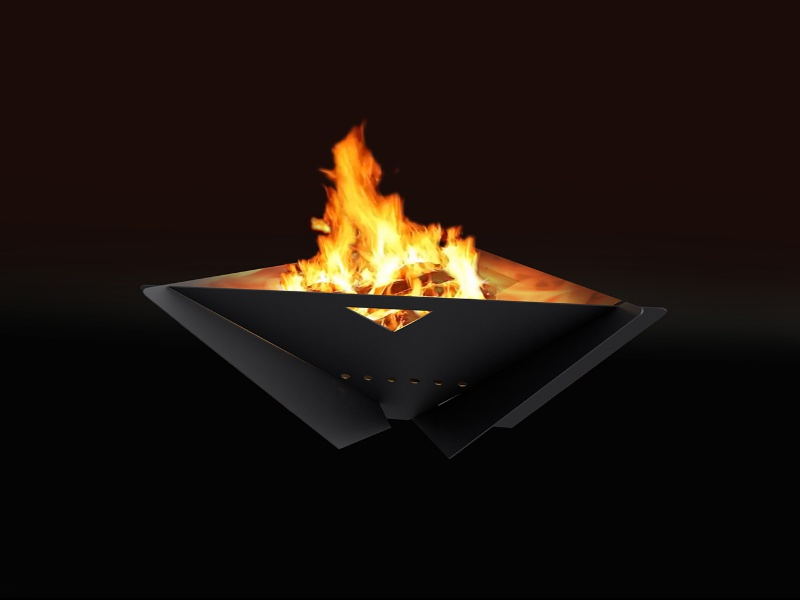fire: (312, 125, 396, 286), (397, 224, 479, 282)
